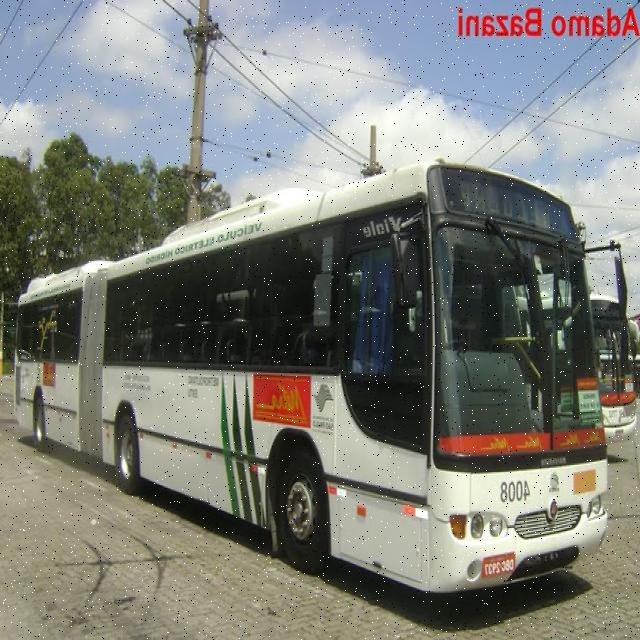Bus: (27, 160, 609, 586), (532, 237, 633, 436), (17, 258, 107, 451), (597, 300, 637, 436)
